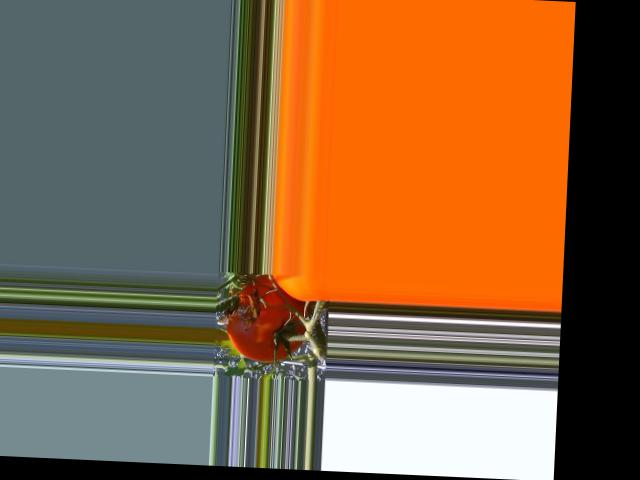tomato: (222, 274, 308, 364)
